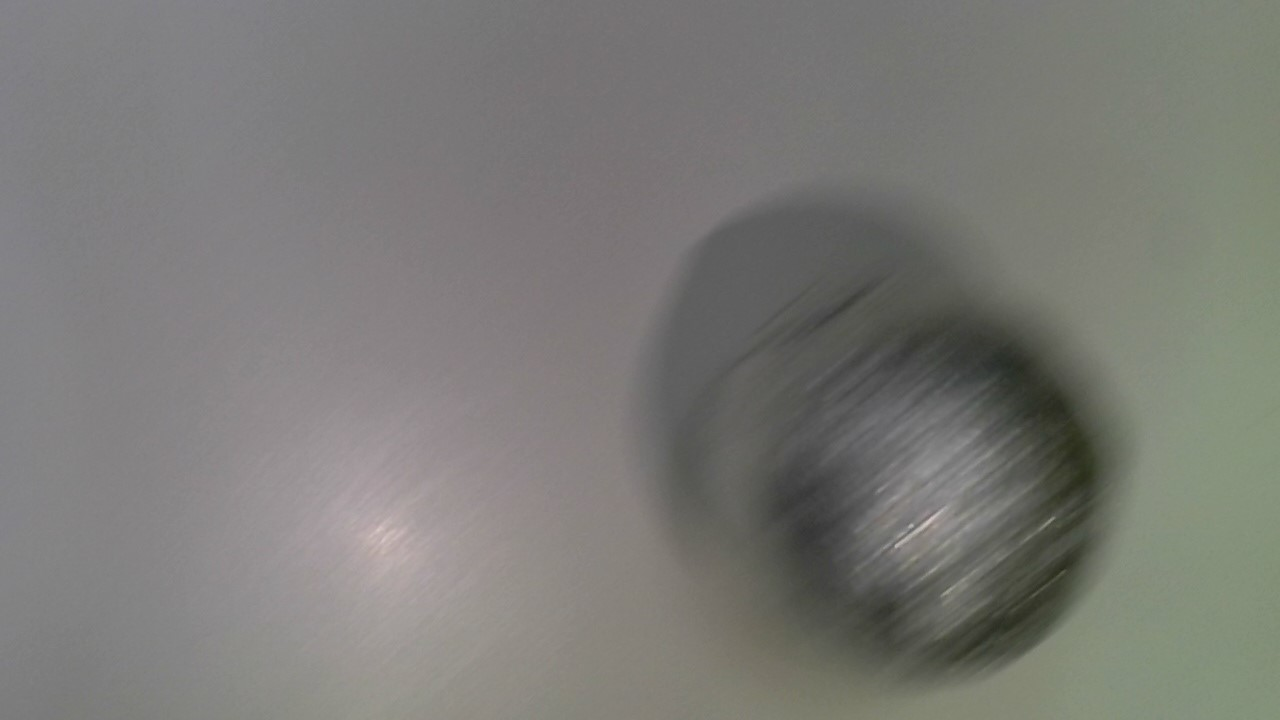silver_ball: (759, 329, 1113, 689)
